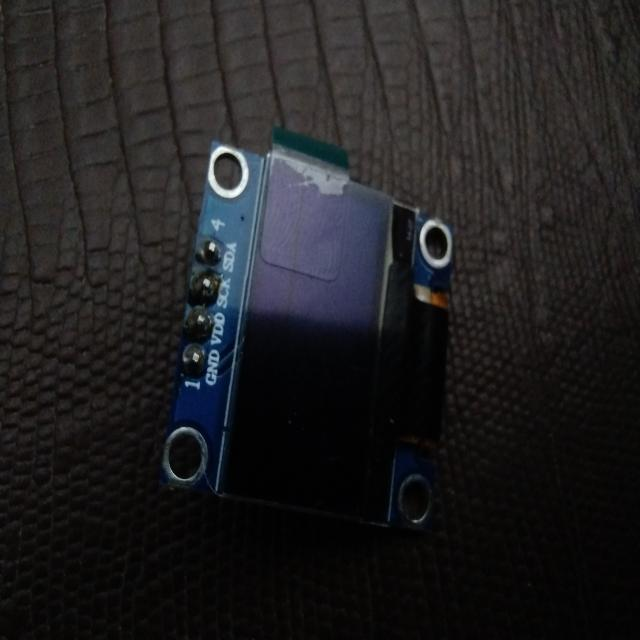oled: (159, 121, 458, 558)
